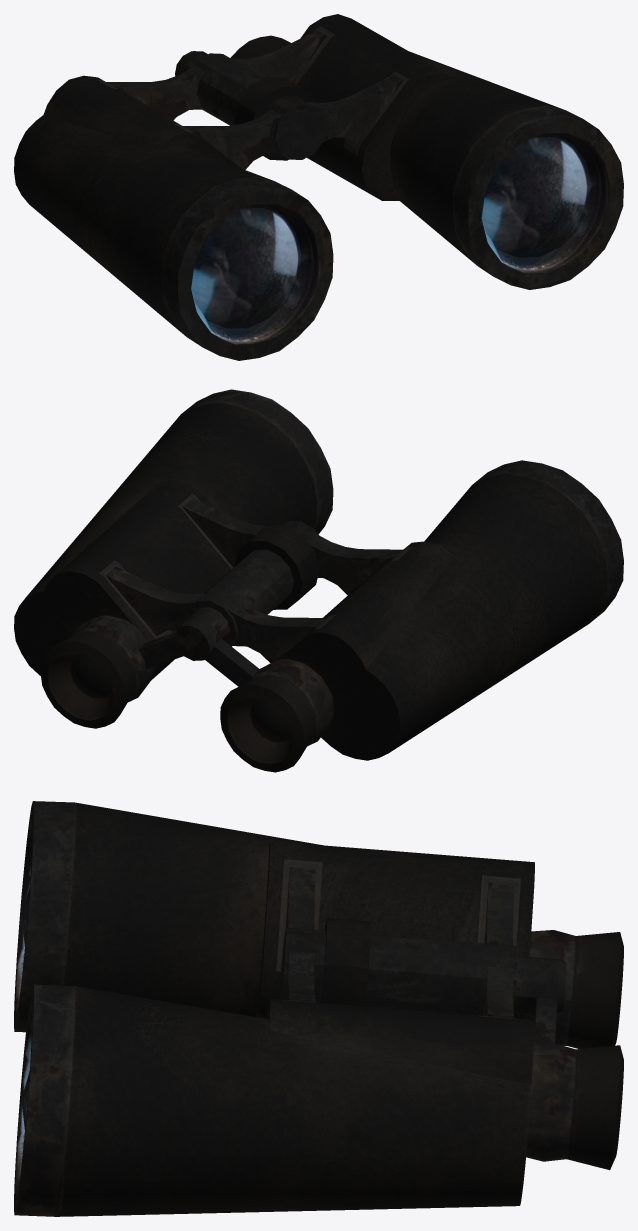
The model's file is Binoculars.FBX.
3 renders of one model, top to bottom at view 1: azimuth 30°, elevation 25°; view 2: azimuth 150°, elevation 25°; view 3: azimuth 270°, elevation 25°, orthographic. The views are drawn at different scales.
Visible parts, largest first — view 1: binoculars; view 2: binoculars; view 3: binoculars.
Boxes of the visible parts, x1,y1,x2,y2 form: binoculars: (14,14,623,360); binoculars: (14,389,623,772); binoculars: (14,801,623,1216).
Bounding box in the file's own units: 15.68 × 5.48 × 14.34.
1 material, 1 textured.
